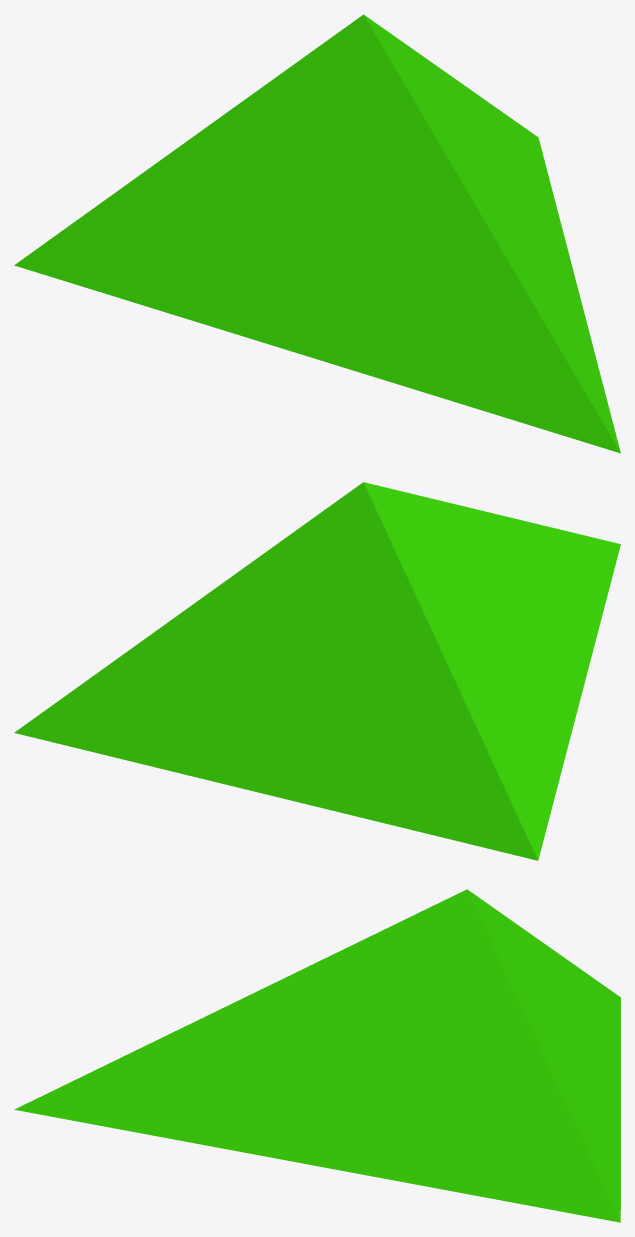
File: PLACEHOLDER_player.fbx
3 views of the same model, one above another, from view 1: azimuth 30°, elevation 25°; view 2: azimuth 150°, elevation 25°; view 3: azimuth 270°, elevation 25° (orthographic). The views are drawn at different scales.
Visible parts, largest first — view 1: Cone.002; view 2: Cone.002; view 3: Cone.002.
Part boxes in pixels (left/top/right/bottom): Cone.002: left=14, top=14, right=620, bottom=453; Cone.002: left=14, top=482, right=620, bottom=860; Cone.002: left=14, top=889, right=620, bottom=1222.
Size of the model in its own units: 41.16 by 18.82 by 46.87.
